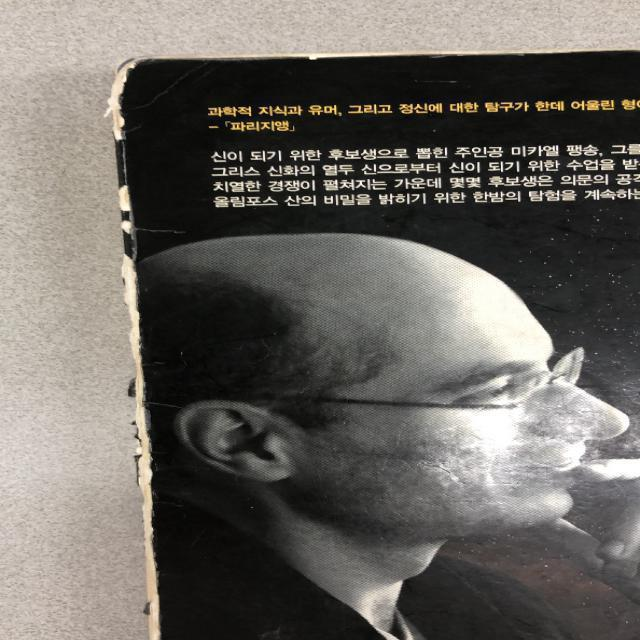Ripped: (117, 246, 167, 639), (99, 51, 158, 152)
Wornout: (387, 48, 551, 62), (110, 177, 140, 239), (162, 54, 326, 63)
